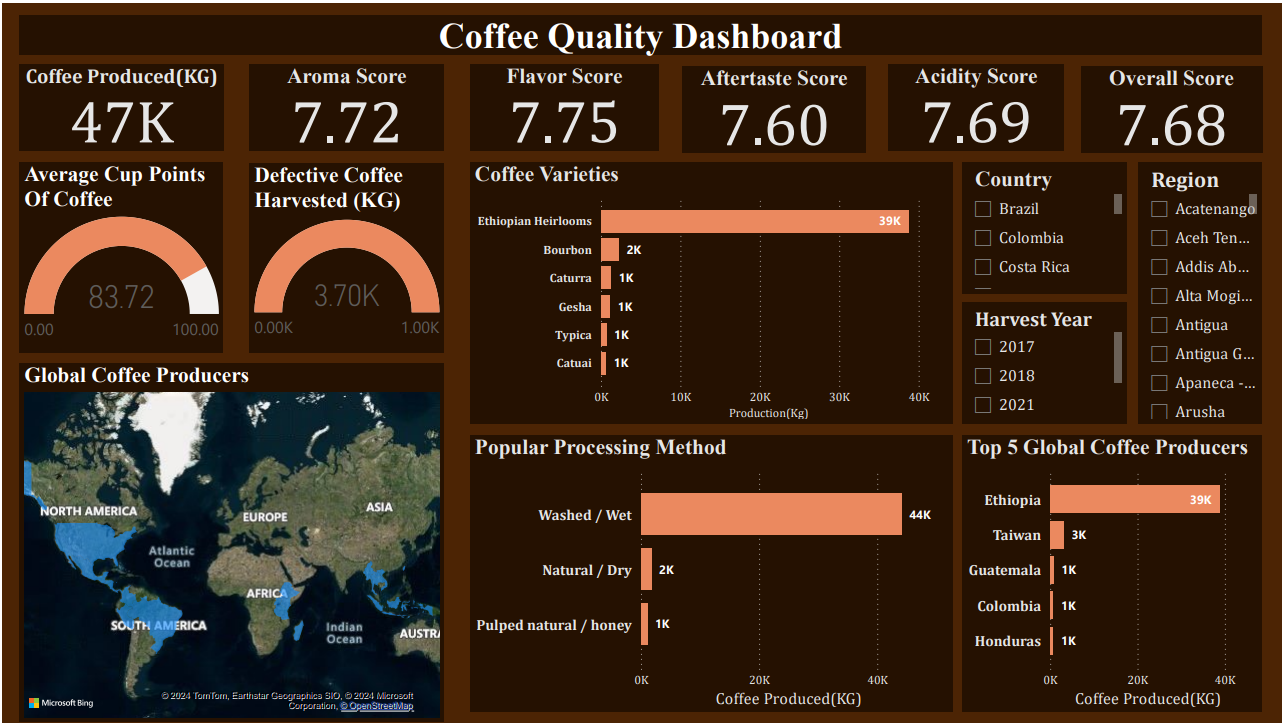

What the dashboard file says about the page in this screenshot:
{"tool":"powerbi","page":{"name":"COFFEE QUALITY DASHBOARD","canvas":[1280,720],"ordinal":0},"visuals":[{"type":"slicer","fields":{"Values":["df_arabica_clean.Harvest Year.1"]},"box":[960.2,298.6,165.4,122.4],"z":0},{"type":"card","title":"Coffee Produced(KG)","fields":{"Values":["Sum(df_arabica_clean.Bag Weight)"]},"box":[17.1,61.2,204.8,86.8],"z":1000},{"type":"slicer","fields":{"Values":["df_arabica_clean.Country of Origin"]},"box":[960.2,158.7,165.4,131.8],"z":2000},{"type":"barChart","title":"Coffee Varieties","fields":{"Category":["df_arabica_clean.Variety"],"Y":["Sum(df_arabica_clean.Coffee Produced(KG))"]},"box":[468,158.7,482.8,262.2],"z":3000},{"type":"barChart","title":"Popular Processing Method","fields":{"Category":["df_arabica_clean.Processing Method"],"Y":["Sum(df_arabica_clean.Coffee Produced(KG))"]},"box":[468,431.7,482.8,277],"z":4000},{"type":"card","title":"Aroma Score","fields":{"Values":["Avg(df_arabica_clean.Aroma)"]},"box":[247.5,61.2,194.9,86.8],"z":5000},{"type":"card","title":"Flavor Score","fields":{"Values":["Avg(df_arabica_clean.Flavor)"]},"box":[468,61.2,189.2,86.8],"z":6000},{"type":"card","title":"Aftertaste Score","fields":{"Values":["Avg(df_arabica_clean.Aftertaste)"]},"box":[680,62.6,183.5,86.8],"z":7000},{"type":"card","title":"Acidity Score","fields":{"Values":["Avg(df_arabica_clean.Acidity)"]},"box":[886.2,61.2,176.4,86.8],"z":8000},{"type":"slicer","fields":{"Values":["df_arabica_clean.Region"]},"box":[1136.4,158.7,123.7,262.2],"z":9000},{"type":"filledMap","title":"Global Coffee Producers","fields":{"Category":["df_arabica_clean.Country of Origin"]},"box":[17.5,360.4,425,359.1],"z":10000},{"type":"gauge","title":"Average Cup Points Of Coffee","fields":{"Y":["Avg(df_arabica_clean.Total Cup Points)"]},"box":[17.5,158.7,204.4,191],"z":11000},{"type":"gauge","title":"Defective Coffee Harvested (KG)","fields":{"Y":["Sum(df_arabica_clean.Defetive Coffee(Kg))"]},"box":[247.4,160,195,189.6],"z":12000},{"type":"textbox","title":"Coffee Quality Dashboard","box":[17.5,12.1,1242.6,40.3],"z":13000},{"type":"card","title":"Overall Score","fields":{"Values":["Avg(df_arabica_clean.Overall)"]},"box":[1078.3,62.6,182.1,86.8],"z":14000},{"type":"barChart","title":"Top 5 Global Coffee Producers","fields":{"Category":["df_arabica_clean.Country of Origin"],"Y":["Sum(df_arabica_clean.Coffee Produced(KG))"]},"box":[960.2,431.7,299.9,277],"z":15000}]}

Visuals, with their boxes in screenshot pixels (x1, y1, x2, y2), scaled from the page's 1280x720 canvas onto the 1284x727 screenshot:
slicer - df_arabica_clean.Harvest Year.1: [963,302,1129,425]
"Coffee Produced(KG)" card: [17,62,223,149]
slicer - df_arabica_clean.Country of Origin: [963,160,1129,293]
"Coffee Varieties" barChart: [469,160,954,425]
"Popular Processing Method" barChart: [469,436,954,716]
"Aroma Score" card: [248,62,444,149]
"Flavor Score" card: [469,62,659,149]
"Aftertaste Score" card: [682,63,866,151]
"Acidity Score" card: [889,62,1066,149]
slicer - df_arabica_clean.Region: [1140,160,1264,425]
"Global Coffee Producers" filledMap: [18,364,444,726]
"Average Cup Points Of Coffee" gauge: [18,160,223,353]
"Defective Coffee Harvested (KG)" gauge: [248,162,444,353]
"Coffee Quality Dashboard" textbox: [18,12,1264,53]
"Overall Score" card: [1082,63,1264,151]
"Top 5 Global Coffee Producers" barChart: [963,436,1264,716]
